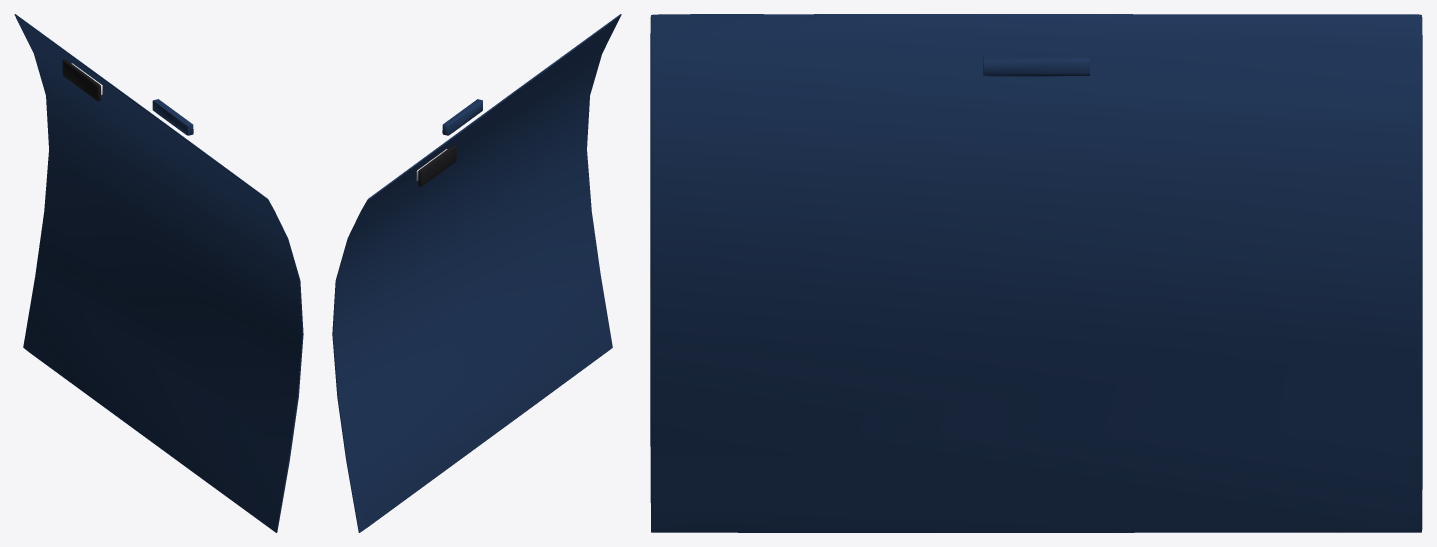
File: door_rear_left.glb
3 views of the same model, side by side, from view 1: azimuth 30°, elevation 25°; view 2: azimuth 150°, elevation 25°; view 3: azimuth 270°, elevation 25° (orthographic). The views are drawn at different scales.
Visible parts, largest first — view 1: GEO_Door_Rear_Left, Handle_RL; view 2: GEO_Door_Rear_Left, Handle_RL; view 3: GEO_Door_Rear_Left.
Boxes of the visible parts, x1,y1,x2,y2 form: GEO_Door_Rear_Left: [14, 14, 303, 532]; Handle_RL: [62, 59, 102, 101]; GEO_Door_Rear_Left: [332, 14, 621, 532]; Handle_RL: [416, 145, 456, 186]; GEO_Door_Rear_Left: [650, 14, 1422, 532].
Size of the model in its own units: 0.0885 by 0.7315 by 0.9996.
